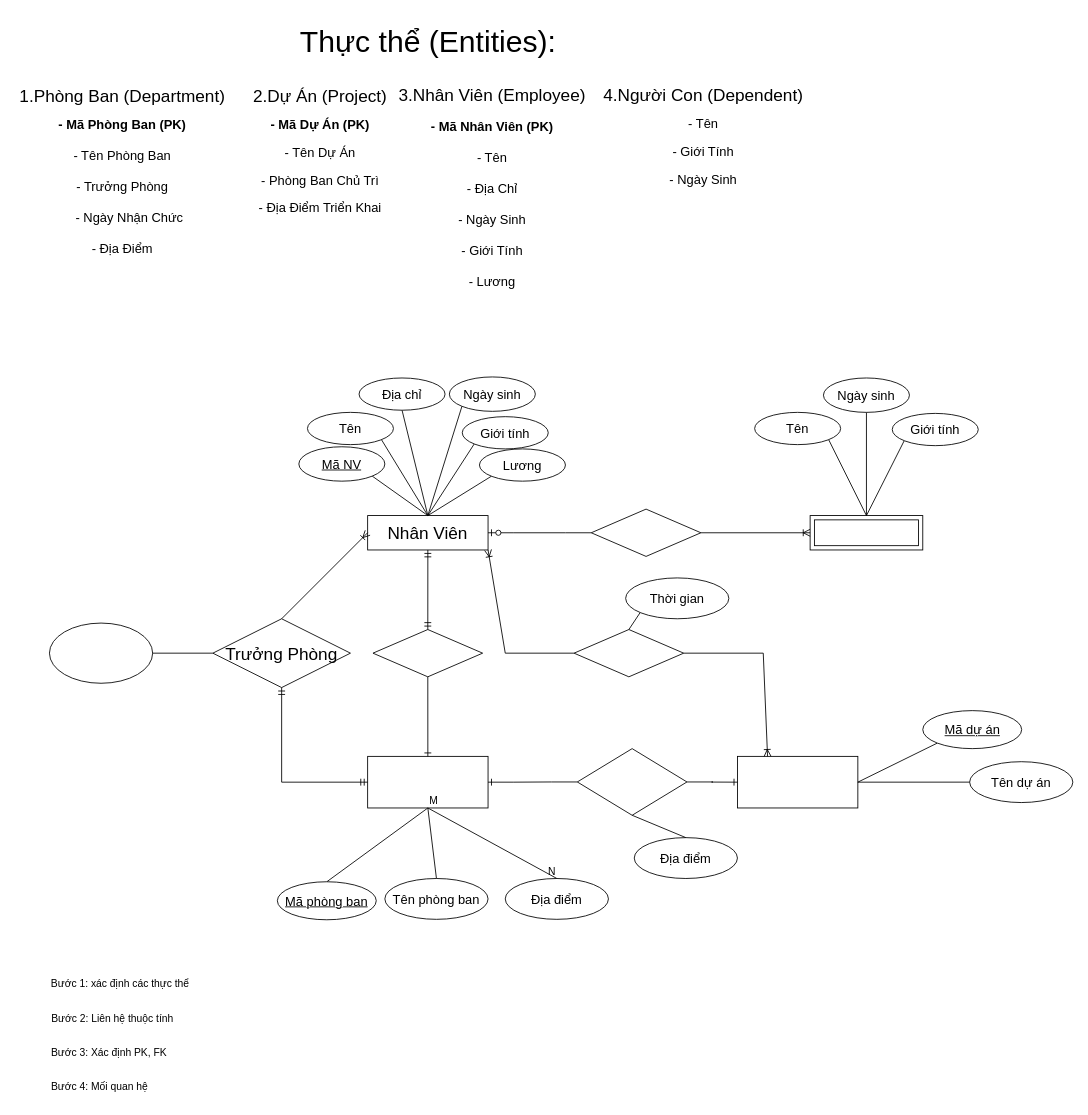
This 1088x1115 diagram has some shape labels left out. Here are the shapes that lost their labels. From the top down, the centre of each, then its label:
At point (645, 532): "Có".
At point (866, 532): "Người Con".
At point (101, 652): "Ngày nhận chức".
At point (427, 653): "Làm Việc".
At point (628, 653): "Tham gia".
At point (427, 782): "Phòng ban".
At point (631, 781): "Chủ trì".
At point (797, 782): "Dự án".
